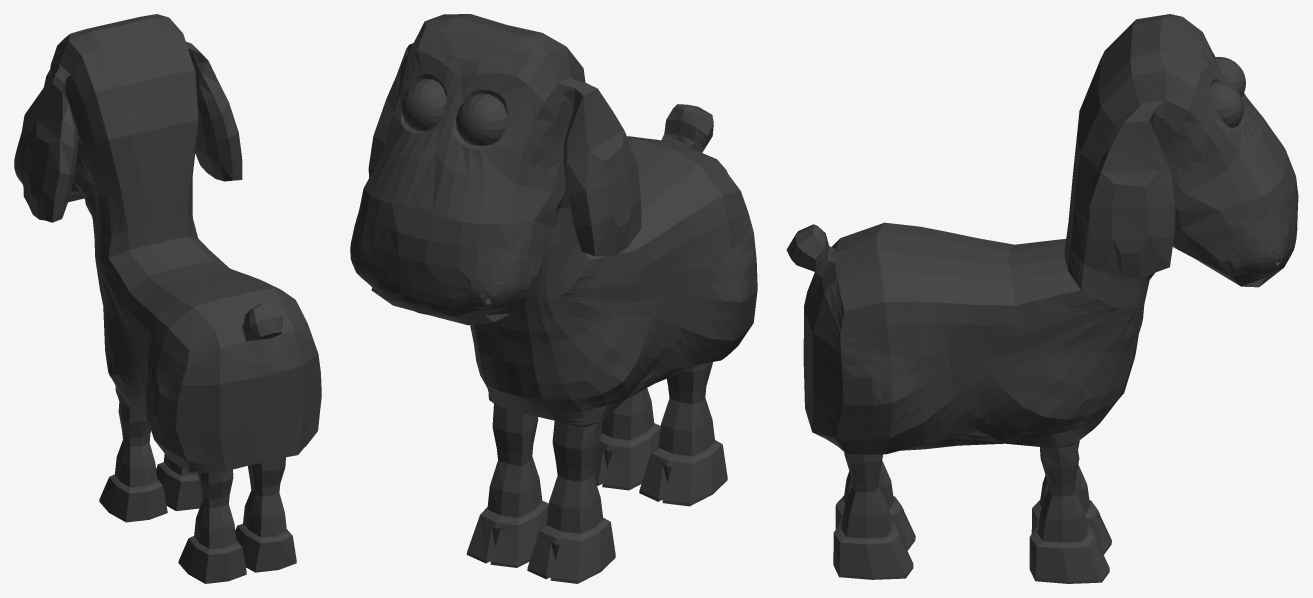
File: original_shape.glb
3 renders of one model, left to right at view 1: azimuth 30°, elevation 25°; view 2: azimuth 150°, elevation 25°; view 3: azimuth 270°, elevation 25°, orthographic. The views are drawn at different scales.
Parts seen in each view (by area): view 1: normalized.obj; view 2: normalized.obj; view 3: normalized.obj.
Part boxes in pixels (x1,y1,x2,y2): normalized.obj: (14, 14, 321, 583); normalized.obj: (350, 14, 757, 583); normalized.obj: (786, 14, 1298, 583).
Size of the model in its own units: 0.3383 by 0.75 by 0.6648.
1 material, 1 textured.
